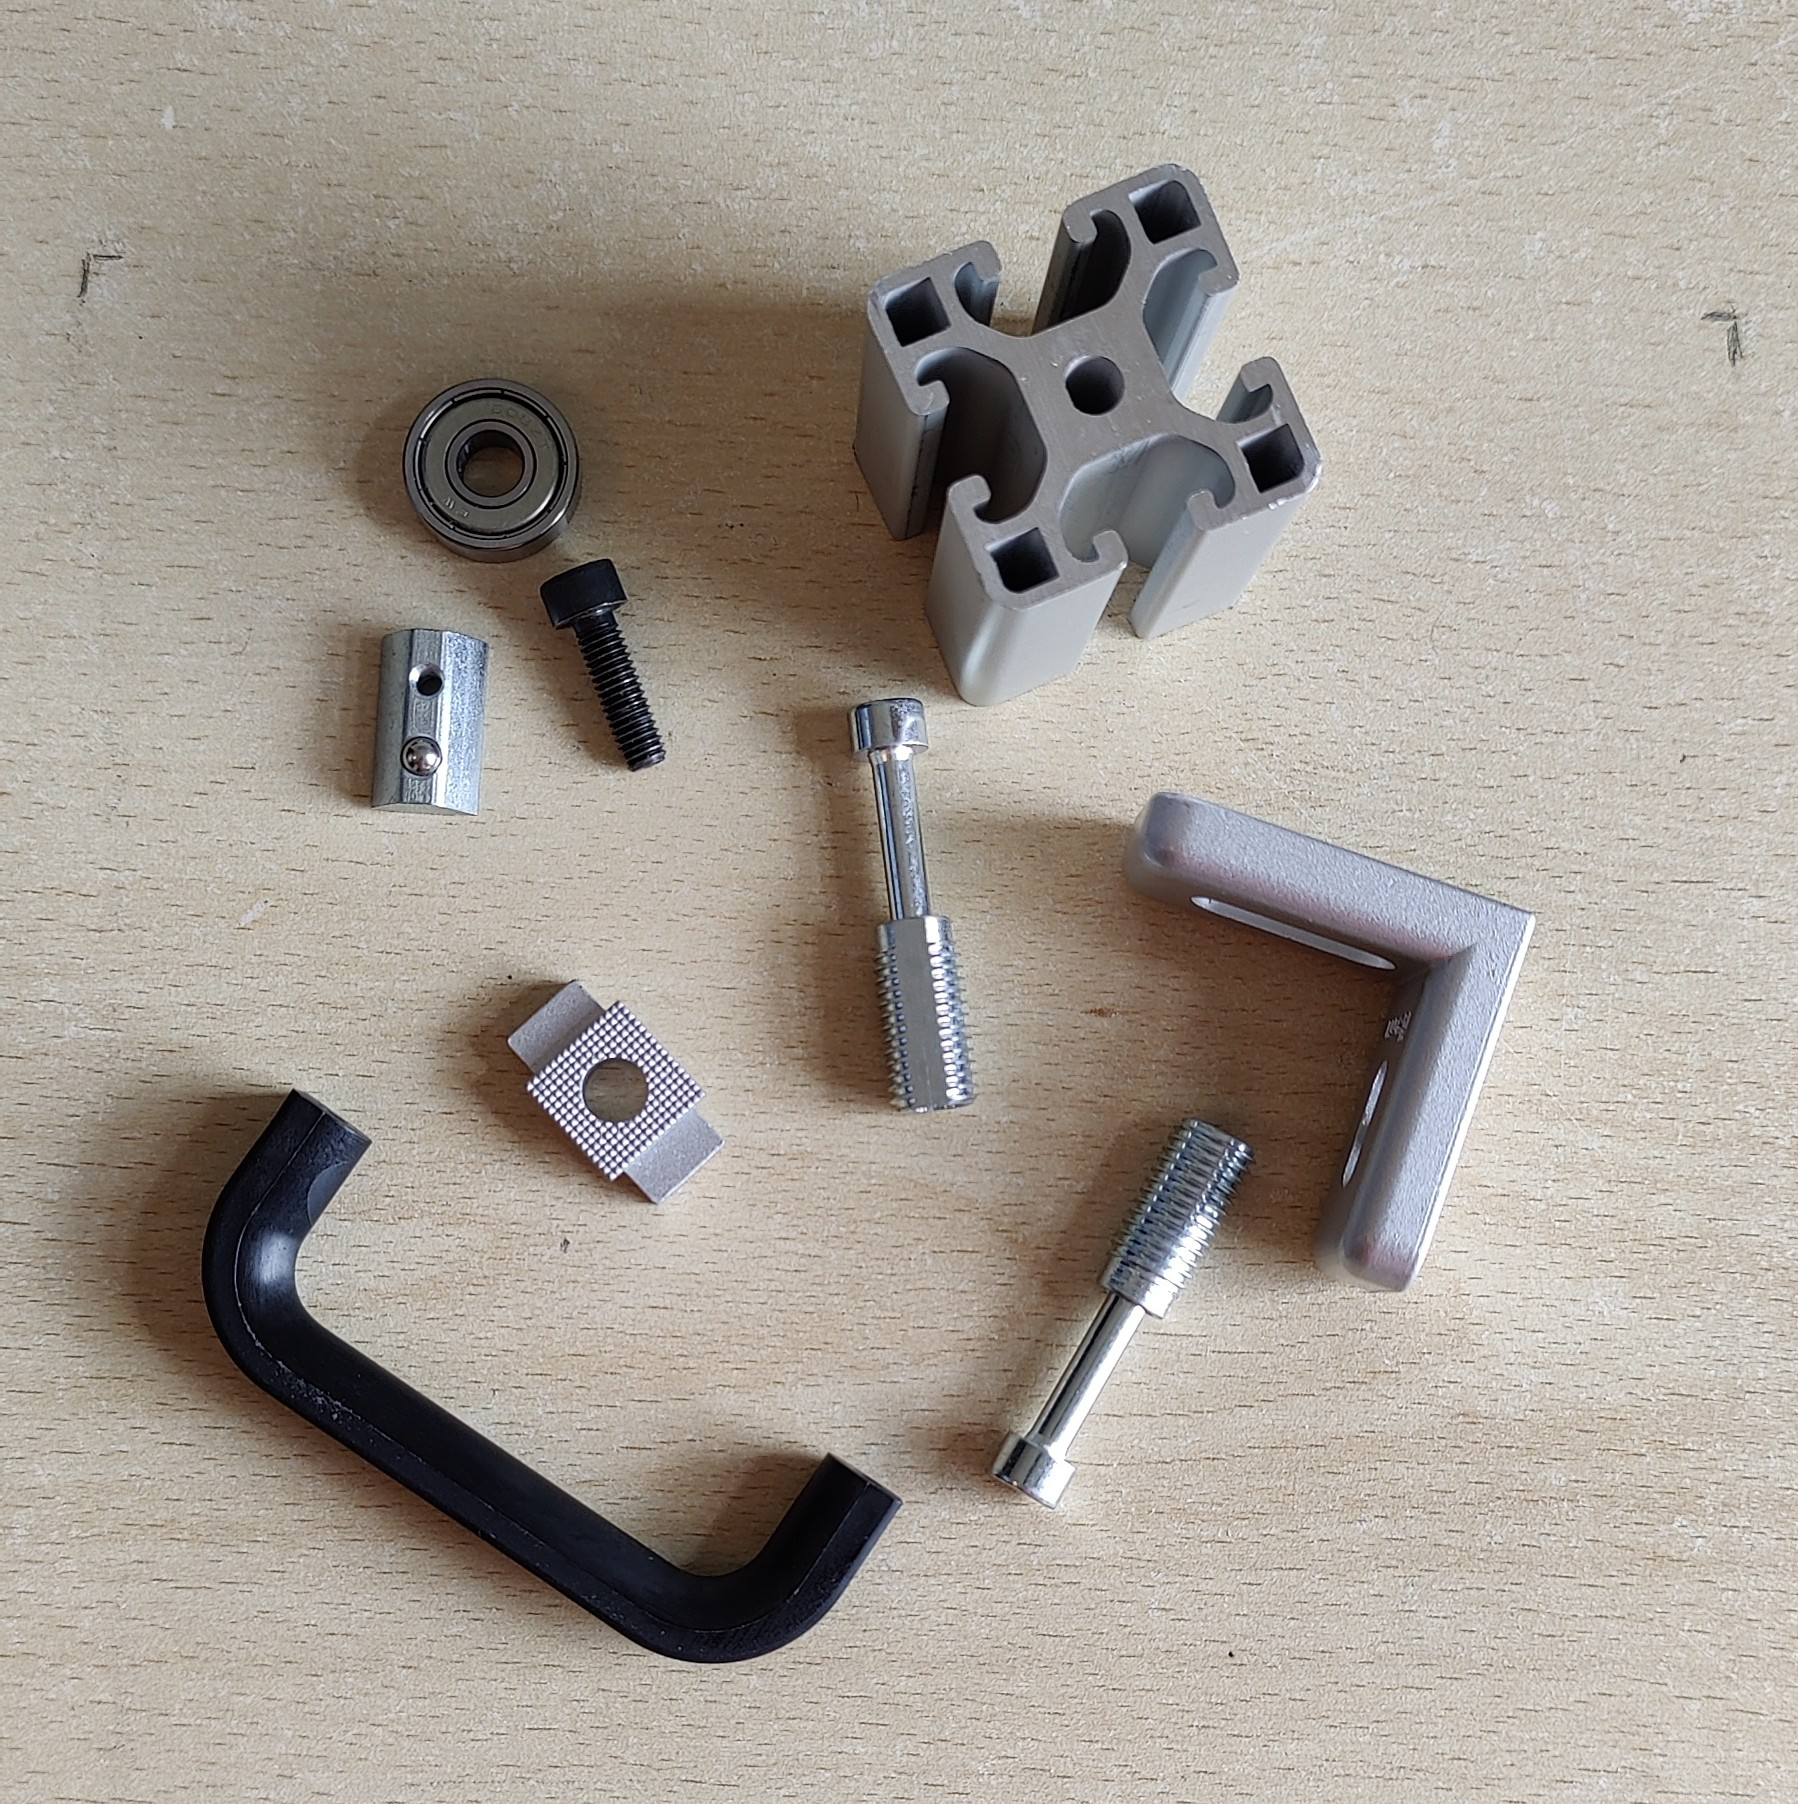Aluminium Extension: (848, 161, 1325, 713)
Ball Bearing: (398, 374, 585, 566)
Multiwinkel: (1116, 788, 1539, 1294)
Pull Handle: (198, 1085, 904, 1666)
Shoulder Socket Head Cap Screw: (990, 1114, 1256, 1513), (845, 695, 981, 1114)
Socket Head Cap Screw: (540, 551, 667, 774)
T Nut Square: (504, 974, 728, 1210)
T Spring Nut: (369, 622, 491, 818)
